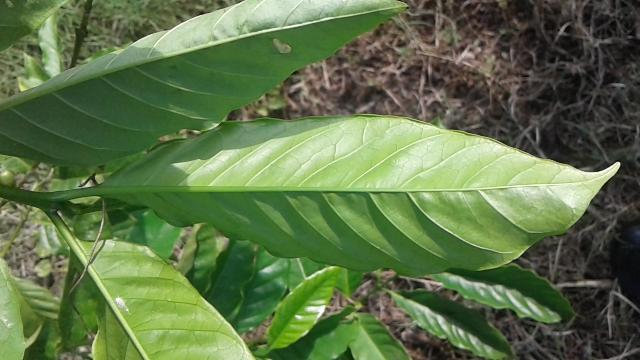healthy: (94, 118, 618, 276)
